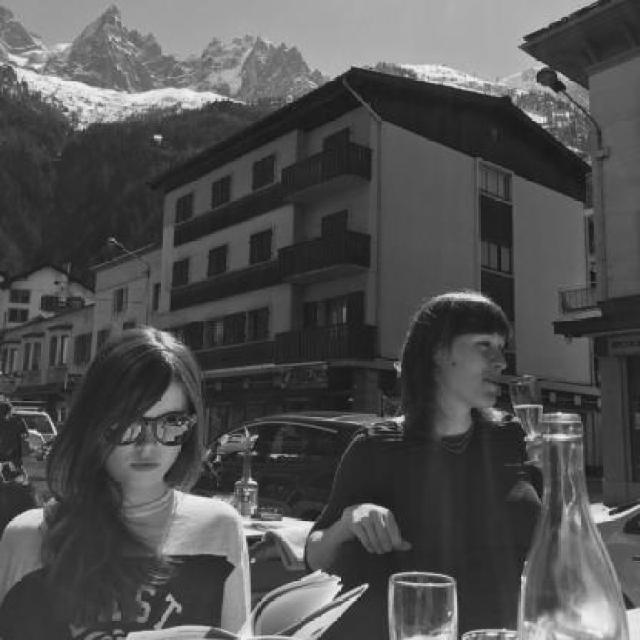face_nomask: (91, 392, 191, 490), (447, 330, 511, 404)
glasses: (111, 405, 200, 467)
hand_noglove: (339, 495, 410, 562)
head_nohelmet: (74, 318, 214, 389), (409, 282, 514, 329)
